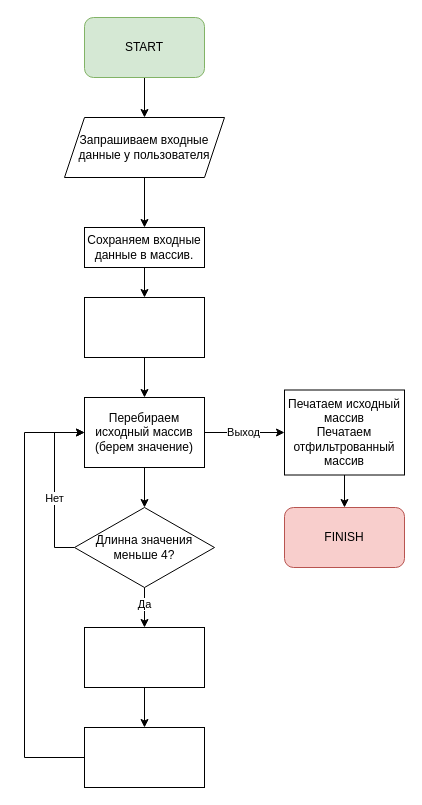
Image size: 422x805. Some labels were removed from this diagram. Each missing label, with the box of its shape:
Создаем пустой массив для отфильтрованных значений: (84, 296, 204, 358)
Сохраняем значение в массив filteredArray: (84, 726, 204, 788)
Увеличиваем массив filteredArray на 1: (84, 626, 204, 688)
